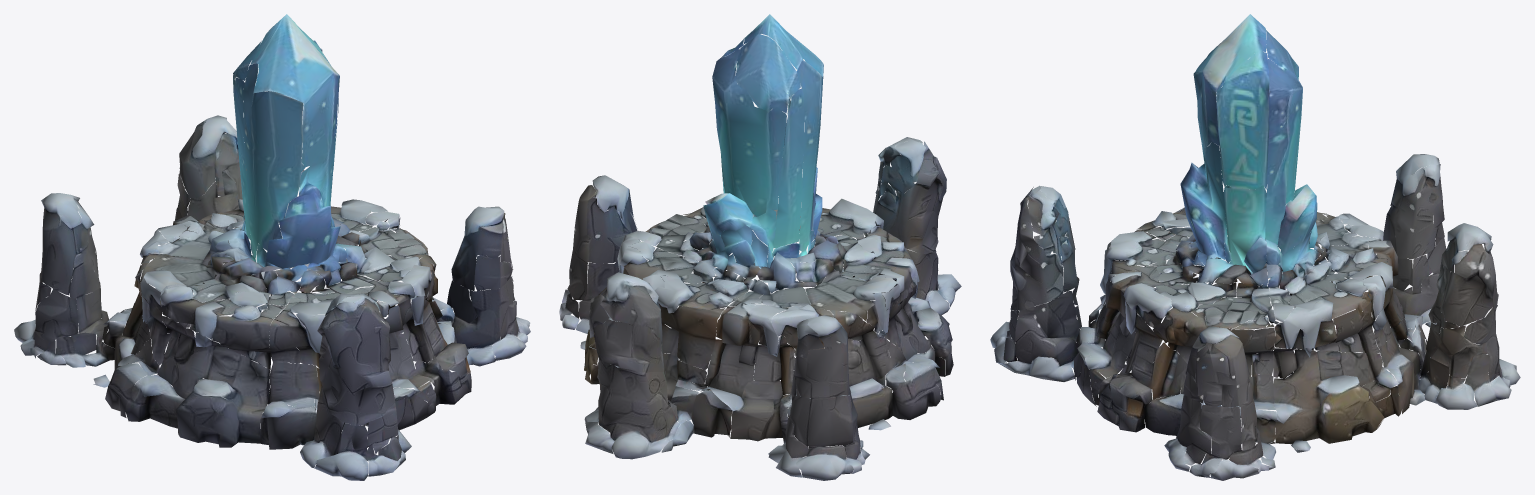
Rendered from anchor-ymiria.glb.
3 views of the same model, side by side, from view 1: azimuth 30°, elevation 25°; view 2: azimuth 150°, elevation 25°; view 3: azimuth 270°, elevation 25° (orthographic).
Visible parts, largest first — view 1: tripo_node_5f69baac-2294-4818-b93b-1b3c7f91914e; view 2: tripo_node_5f69baac-2294-4818-b93b-1b3c7f91914e; view 3: tripo_node_5f69baac-2294-4818-b93b-1b3c7f91914e.
Part boxes in pixels (bbox=[...]): tripo_node_5f69baac-2294-4818-b93b-1b3c7f91914e: bbox=[14, 14, 530, 480]; tripo_node_5f69baac-2294-4818-b93b-1b3c7f91914e: bbox=[559, 14, 961, 480]; tripo_node_5f69baac-2294-4818-b93b-1b3c7f91914e: bbox=[990, 14, 1520, 480].
Size of the model in its own units: 0.8822 by 0.75 by 1.
Materials: 1 (1 with a texture image).
